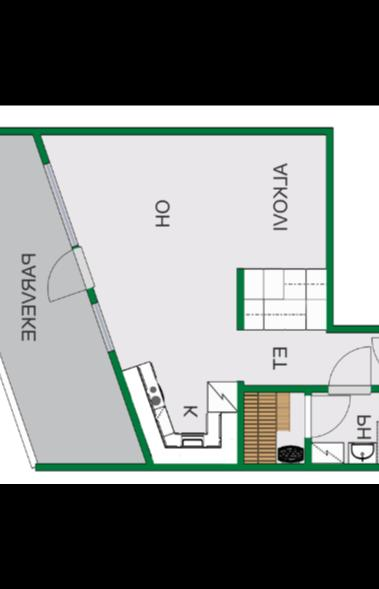bathroom: (307, 391, 379, 466)
door: (42, 242, 95, 304), (303, 390, 352, 439), (326, 342, 368, 394)
perimeter: (28, 124, 379, 472)
window: (37, 160, 81, 246), (82, 300, 120, 355)
